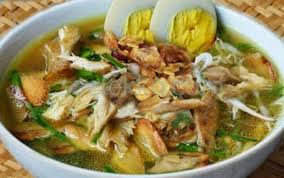soto: (5, 2, 284, 175)
